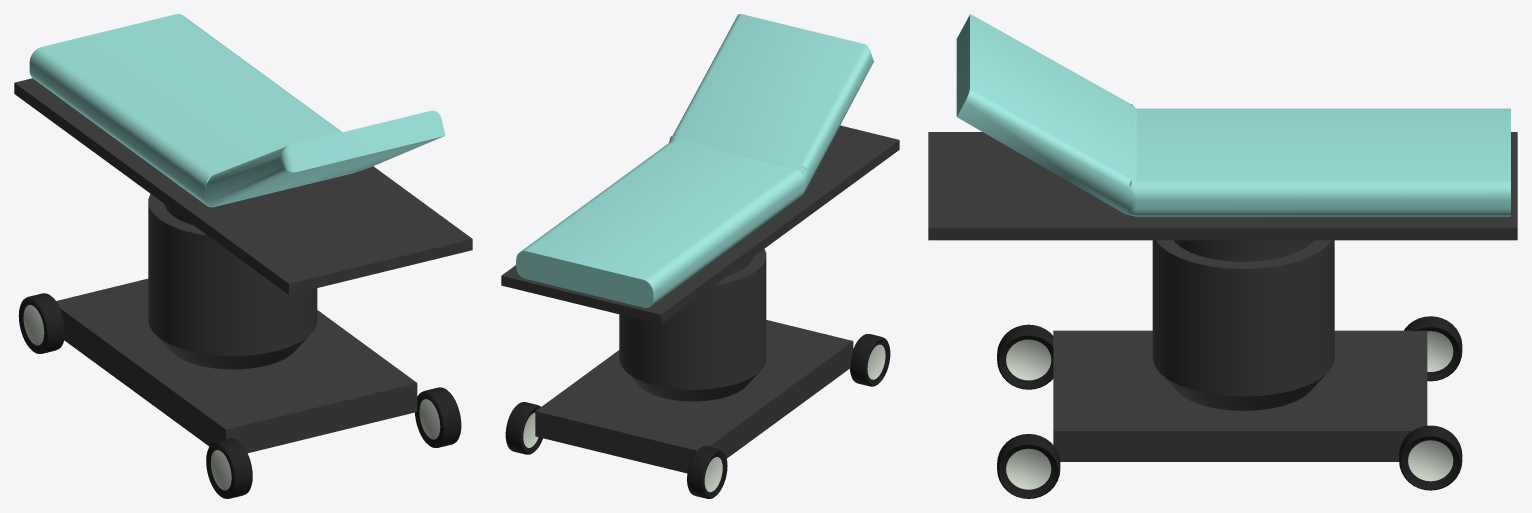
File: OpratingTable.fbx
3 views of the same model, side by side, from view 1: azimuth 30°, elevation 25°; view 2: azimuth 150°, elevation 25°; view 3: azimuth 270°, elevation 25° (orthographic). The views are drawn at different scales.
Visible parts, largest first — view 1: Frame, Bed, Wheels; view 2: Bed, Frame, Wheels; view 3: Frame, Bed, Wheels.
Part boxes in pixels (left/top/right/bottom): Frame: left=14, top=78, right=472, bottom=452; Bed: left=29, top=14, right=445, bottom=207; Wheels: left=18, top=293, right=461, bottom=498; Bed: left=516, top=14, right=873, bottom=307; Frame: left=501, top=125, right=899, bottom=473; Wheels: left=505, top=334, right=890, bottom=498; Frame: left=928, top=132, right=1517, bottom=461; Bed: left=956, top=14, right=1510, bottom=216; Wheels: left=997, top=316, right=1462, bottom=498.
Size of the model in its own units: 238 by 362 by 497.
